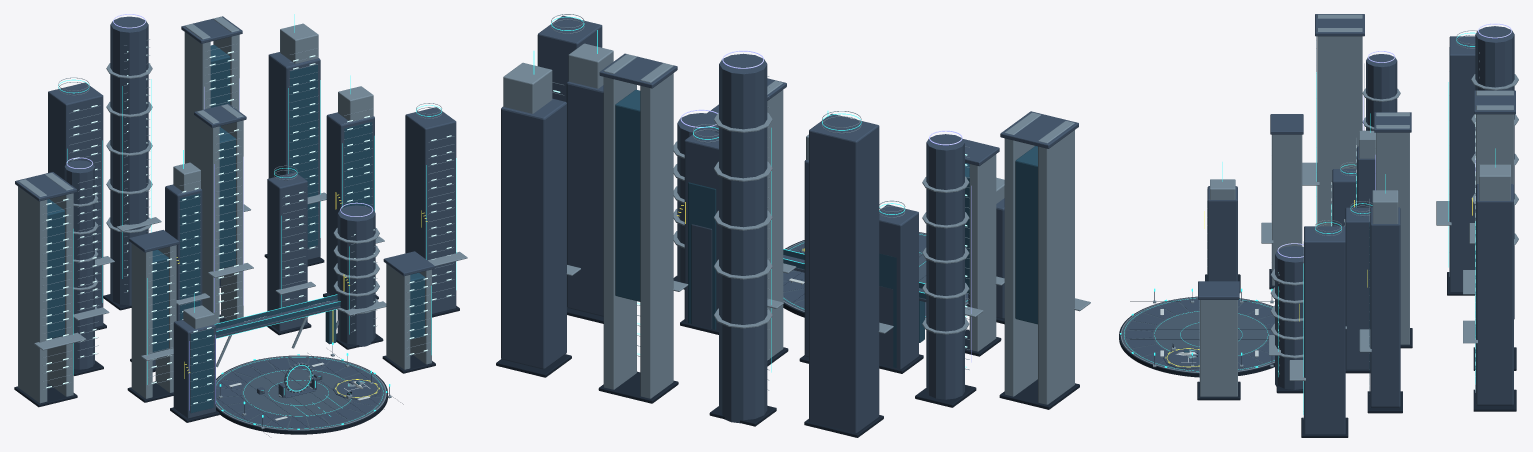
The model's file is neon_city.glb.
3 renders of one model, left to right at view 1: azimuth 30°, elevation 25°; view 2: azimuth 150°, elevation 25°; view 3: azimuth 270°, elevation 25°, orthographic. The views are drawn at different scales.
Visible parts, largest first — view 1: CityBatch_Hull, CityBatch_Chamfer, CityBatch_Curtain wall, CityBatch_Plaza, CityBatch_Joint, CityBatch_NEON, CityBatch_Occupied window, CityBatch_NEON.001; view 2: CityBatch_Hull, CityBatch_Chamfer, CityBatch_Curtain wall, CityBatch_Joint, CityBatch_NEON; view 3: CityBatch_Hull, CityBatch_Chamfer, CityBatch_Plaza, CityBatch_Joint, CityBatch_NEON, CityBatch_Curtain wall.
Part boxes in pixels (x1,y1,x2,y2): CityBatch_Hull: (15,16,456,427); CityBatch_Chamfer: (18,16,467,430); CityBatch_Curtain wall: (47,45,424,413); CityBatch_Plaza: (216,356,385,429); CityBatch_Joint: (14,254,459,436); CityBatch_NEON: (58,14,456,429); CityBatch_Occupied window: (46,46,451,403); CityBatch_NEON.001: (66,14,373,410); CityBatch_Hull: (501,15,1078,432); CityBatch_Chamfer: (503,14,1090,404); CityBatch_Curtain wall: (615,89,1037,367); CityBatch_Joint: (496,232,1079,437); CityBatch_NEON: (533,16,967,372); CityBatch_Hull: (1125,14,1515,434); CityBatch_Chamfer: (1120,14,1518,418); CityBatch_Plaza: (1121,297,1274,372); CityBatch_Joint: (1119,269,1516,437); CityBatch_NEON: (1120,32,1495,414); CityBatch_Curtain wall: (1183,151,1475,393).
Size of the model in its own units: 132 by 85.29 by 106.
